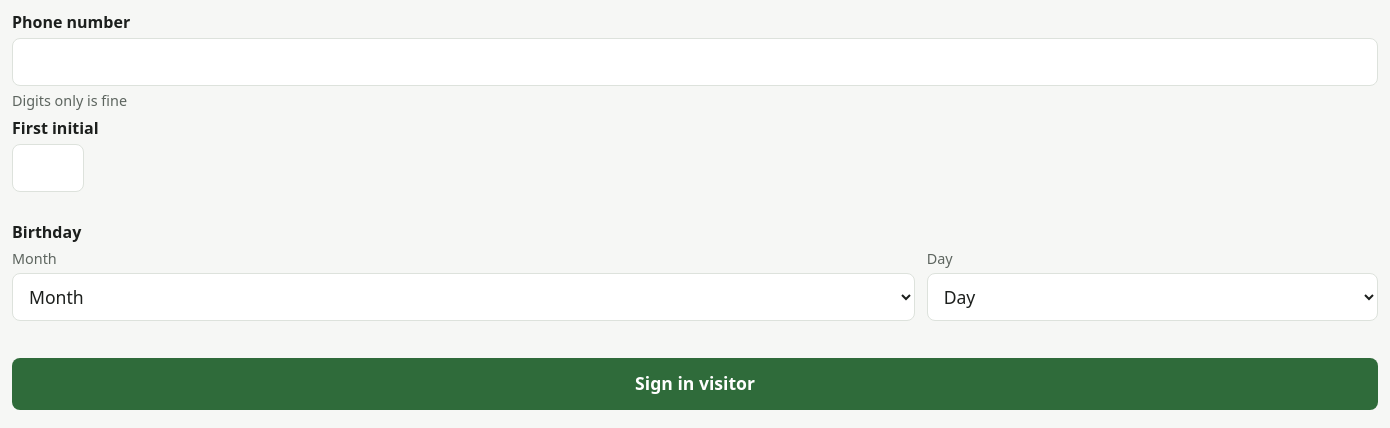
it: SignInForm › rejects a day that does not exist in the chosen month
In the field labelled "Phone number": {"x": 695, "y": 62} [12,38,1378,86], type "3125550100"
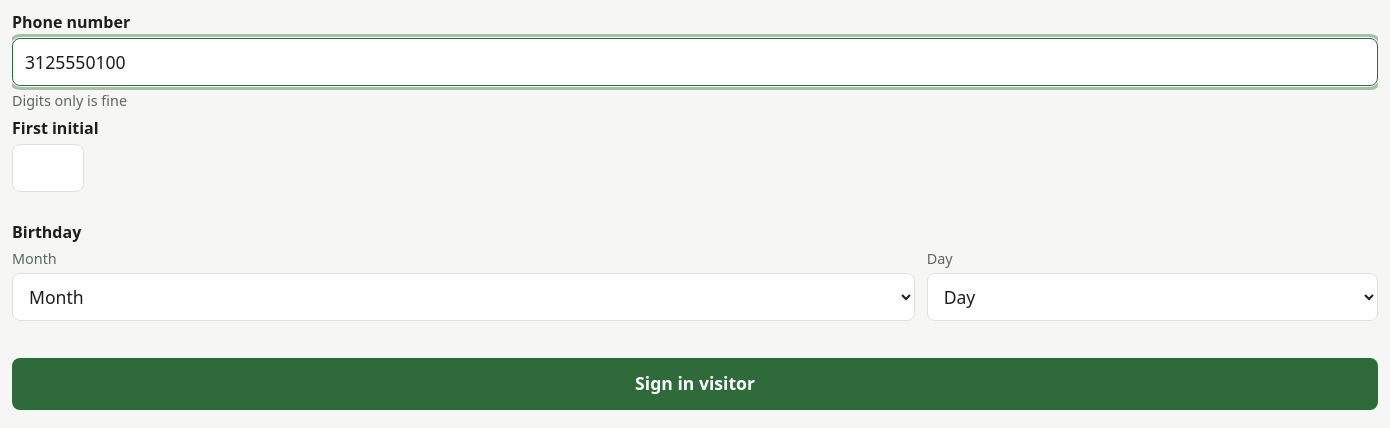
In the field labelled "First initial": {"x": 48, "y": 168} [12,144,84,192], type "k"
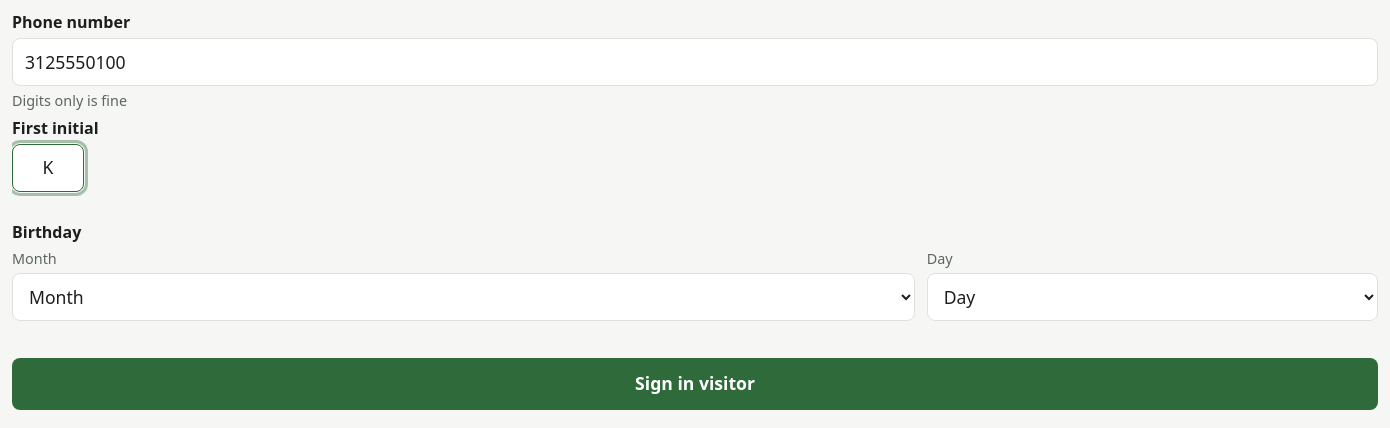
Select "February" in the dropdown labelled "Month": {"x": 463, "y": 297} [12,273,915,321]
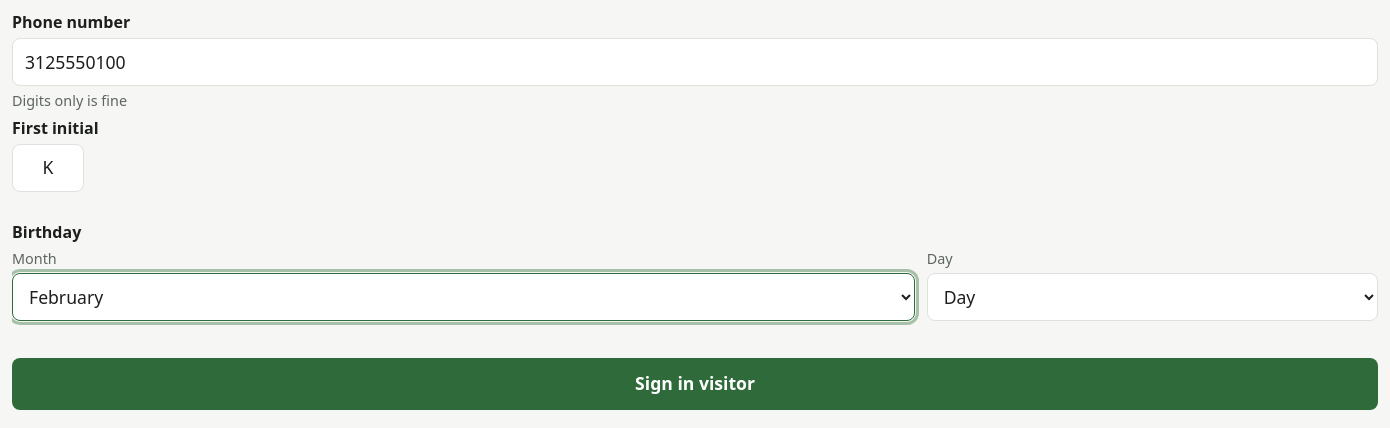
Select "30" in the dropdown labelled "Day": {"x": 1152, "y": 297} [927,273,1378,321]
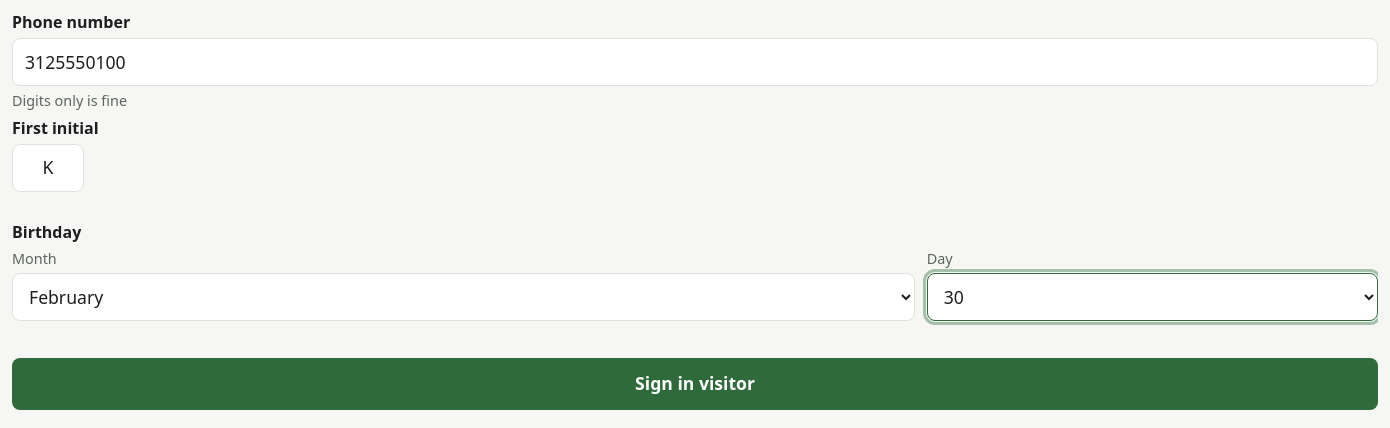
Click the button "Sign in visitor": {"x": 695, "y": 384} [12,358,1378,410]
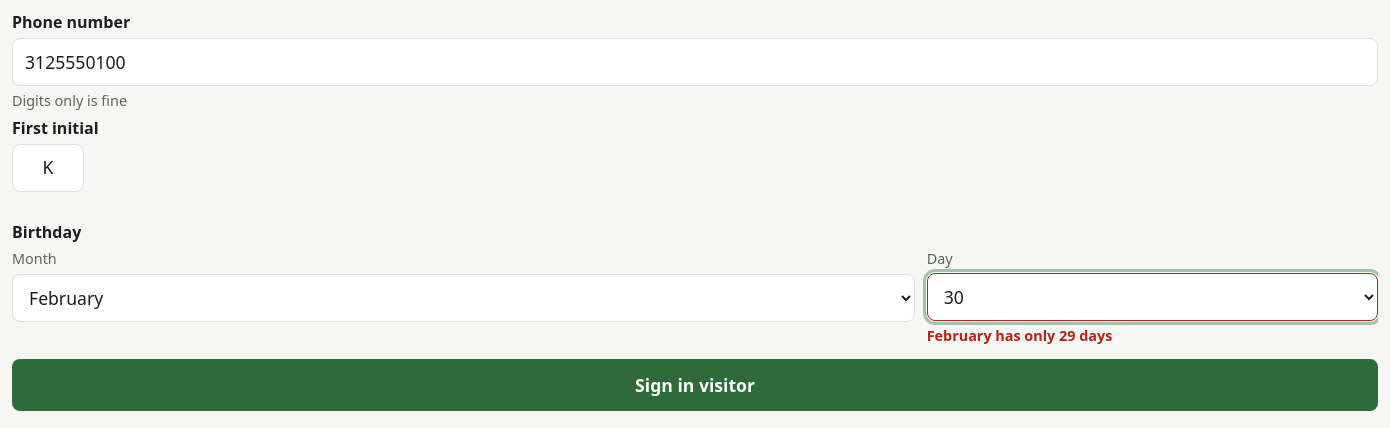
Result: the text "February has only 29 days" is shown at [927,326,1112,345]
